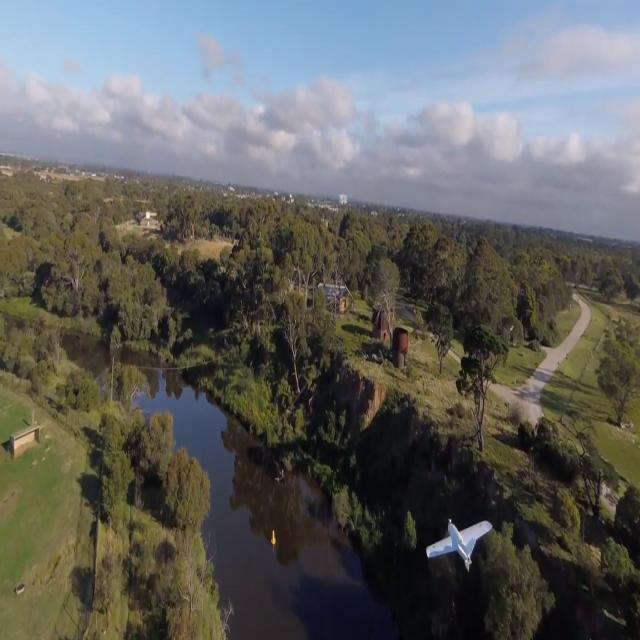iha: (448, 517, 453, 575)
